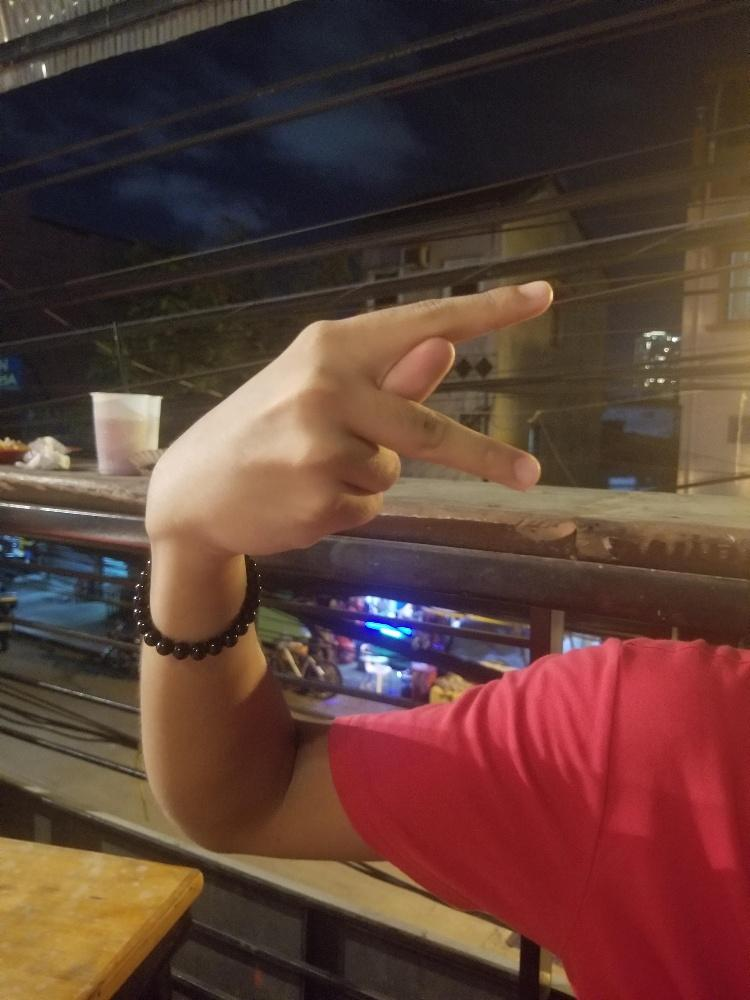k: (214, 277, 554, 554)
